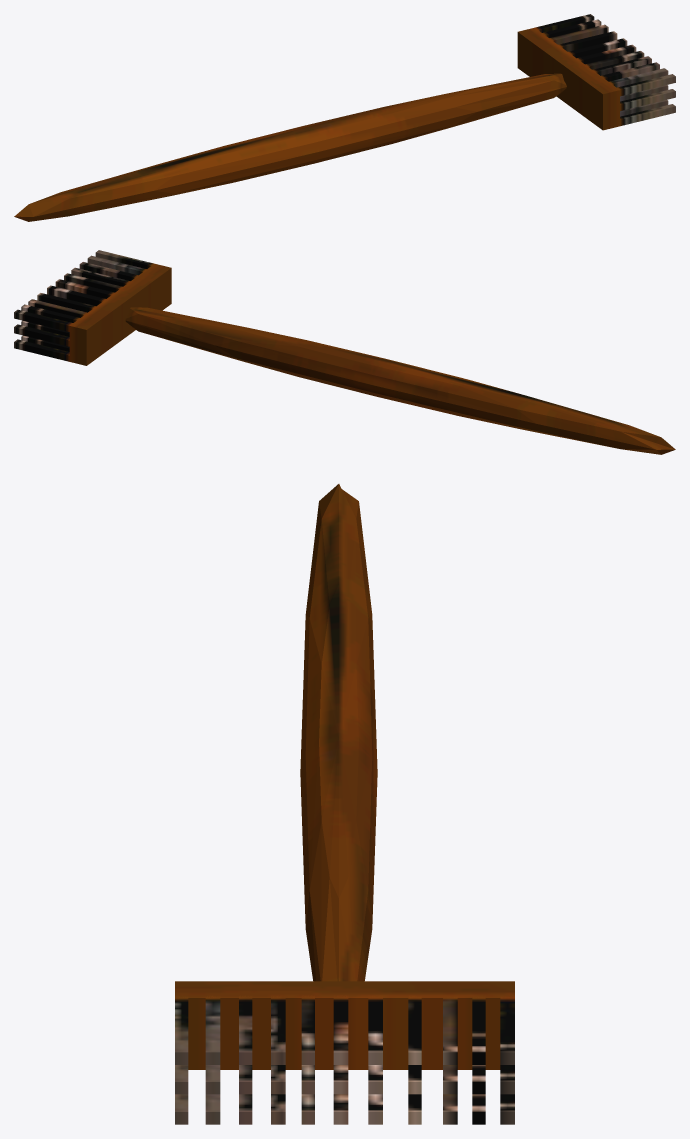
Rendered from Broom.glb.
3 views of the same model, one above another, from view 1: azimuth 30°, elevation 25°; view 2: azimuth 150°, elevation 25°; view 3: azimuth 270°, elevation 25° (orthographic). The views are drawn at different scales.
Visible parts, largest first — view 1: Broom; view 2: Broom; view 3: Broom.
Boxes of the visible parts, bbox=[...] form: Broom: bbox=[14, 14, 675, 221]; Broom: bbox=[14, 250, 675, 454]; Broom: bbox=[175, 484, 514, 1124].
Bounding box in the file's own units: 422 × 23.82 × 101.
Materials: 1 (1 with a texture image).
